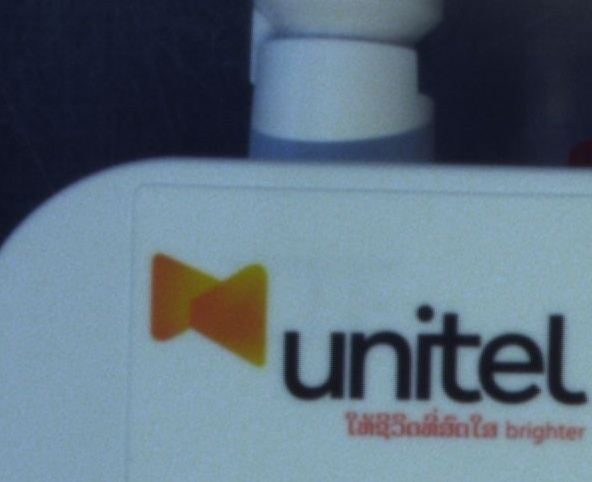BT_unitel: (147, 251, 589, 447)
